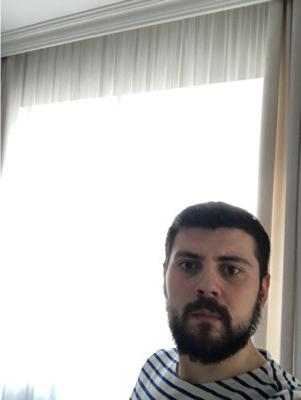without_mask: (166, 246, 261, 364)
